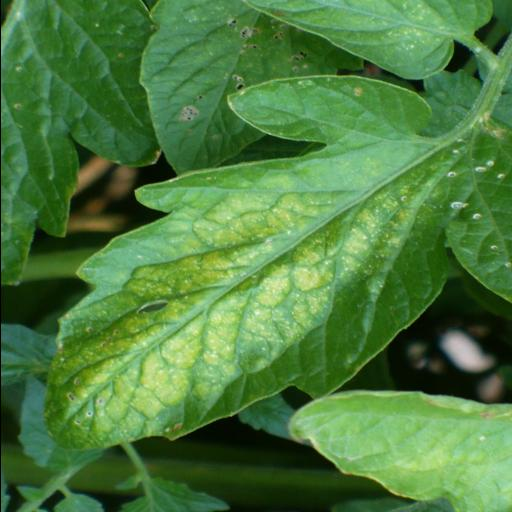Spider Mites: (39, 74, 512, 454)
